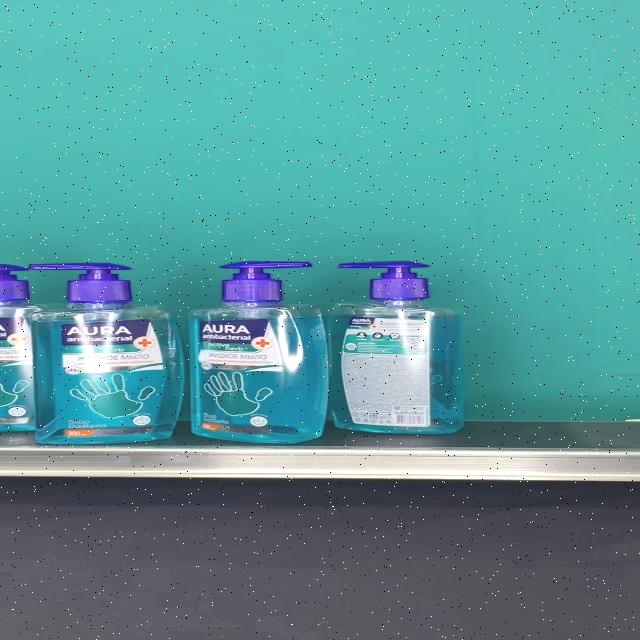Bottle: (29, 262, 184, 443), (188, 261, 330, 444), (328, 260, 464, 435)
Cap: (218, 260, 314, 302), (29, 262, 131, 300), (339, 261, 431, 301)
